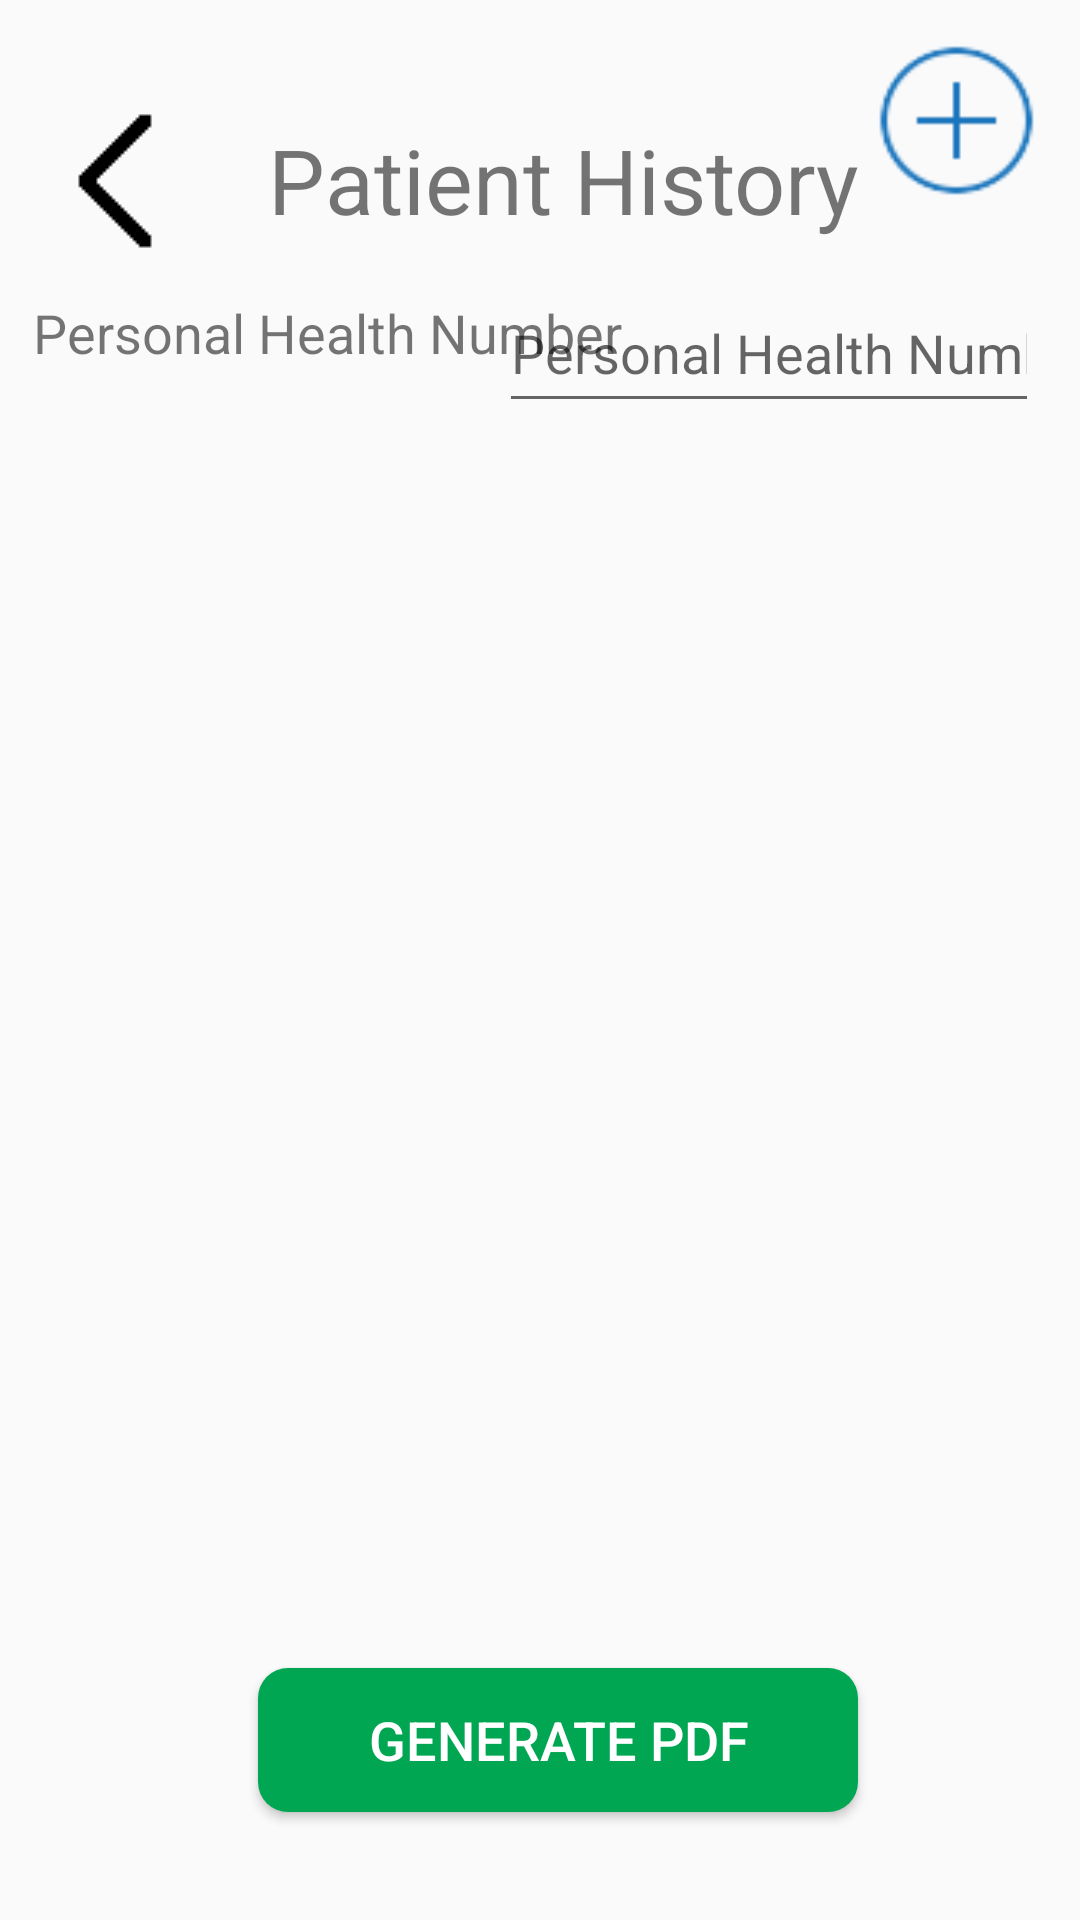

Locate icon controls on the screen. Image size 1080*1920, boxes as (x1, y1, x2, y2).
Back: (78, 114, 152, 248)
